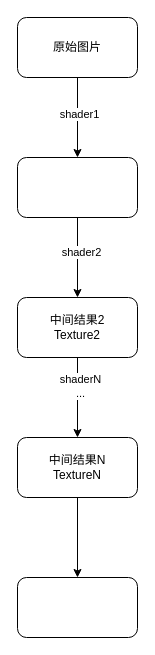
Some shapes in this 155 by 655 pixel diagram are drawn without their labels. The centre of each missing label's shape, as x and y in pixels:
"中间结果1 Texture" goes at pixel 77 187.
"屏幕" goes at pixel 77 607.
